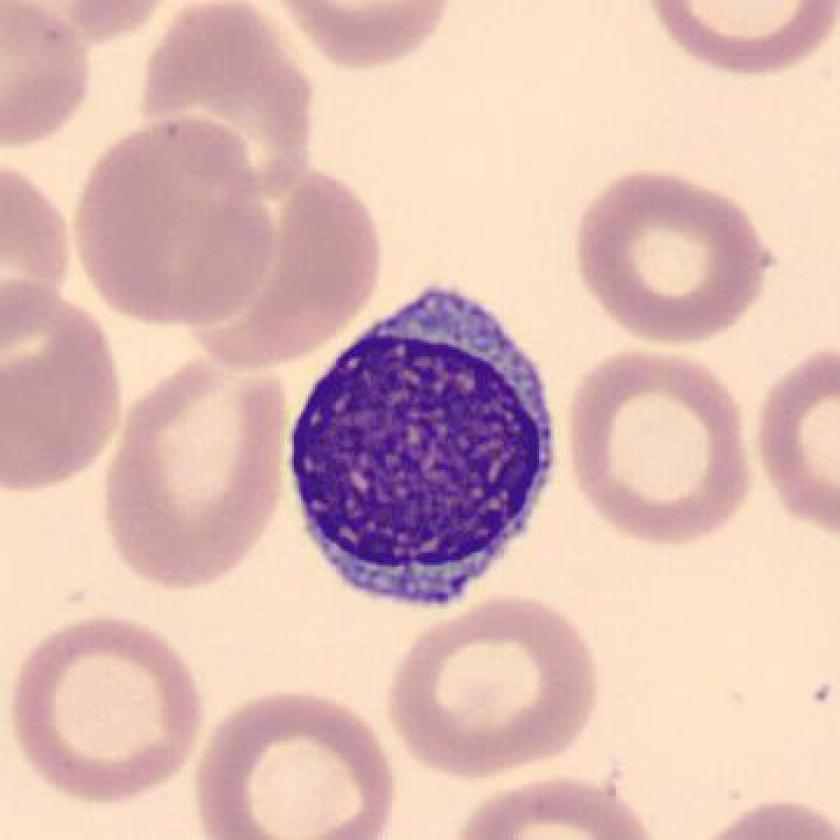lymphocyte: (277, 276, 564, 626)
